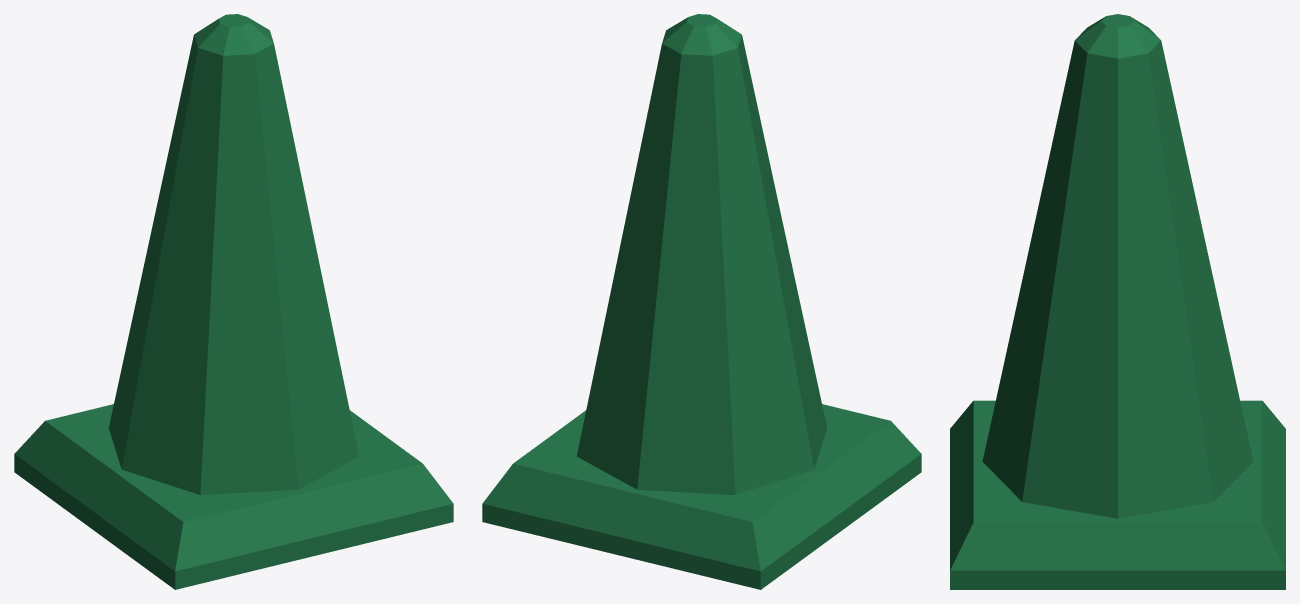
Rendered from roadblock.fbx.
3 renders of one model, left to right at view 1: azimuth 30°, elevation 25°; view 2: azimuth 150°, elevation 25°; view 3: azimuth 270°, elevation 25°, orthographic. The views are drawn at different scales.
Visible parts, largest first — view 1: pCube17; view 2: pCube17; view 3: pCube17.
Boxes of the visible parts, left/top/right/bottom form: pCube17: left=14, top=14, right=453, bottom=589; pCube17: left=482, top=14, right=921, bottom=589; pCube17: left=950, top=14, right=1285, bottom=589.
Bounding box in the file's own units: 1 × 1.64 × 1.
